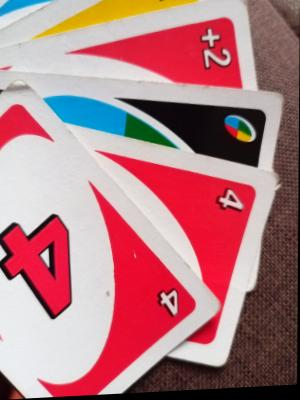-2: (192, 20, 239, 80)
colour: (19, 69, 283, 175), (216, 110, 263, 157)
